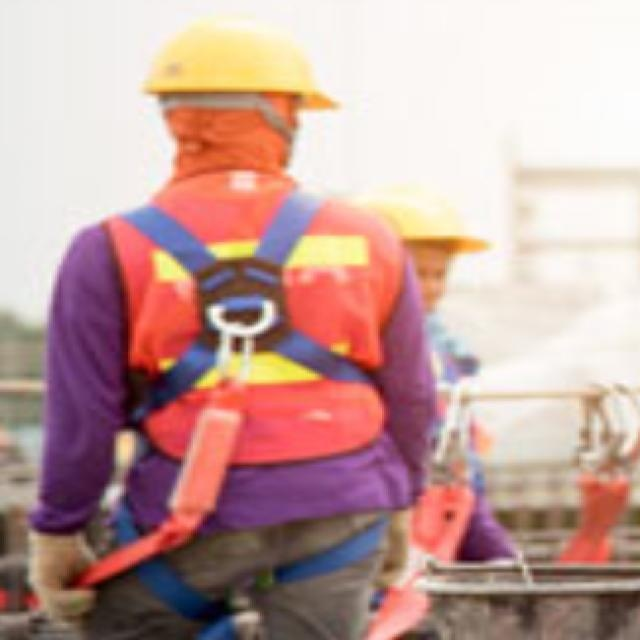Arnes_seguridad: (102, 177, 396, 451)
